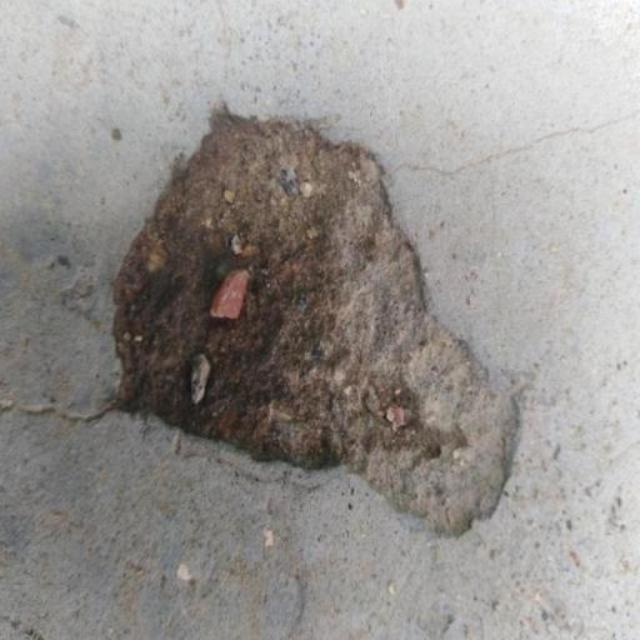D10: (102, 106, 525, 537)
